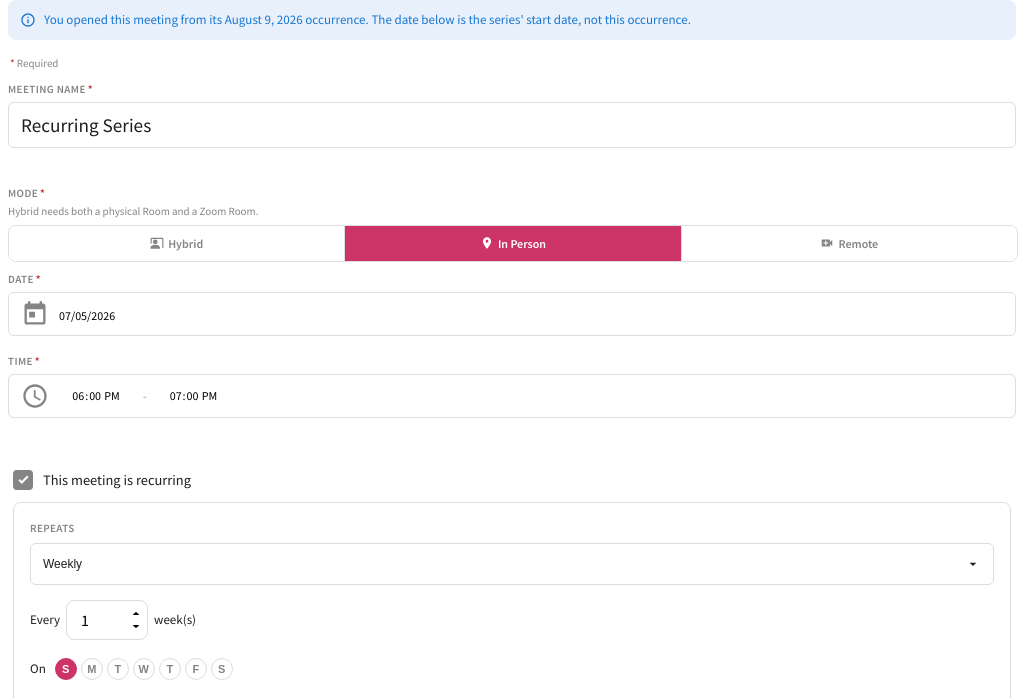
Test: EditMeetingSidebar recurring-scope re-anchoring › disables both scoped options and forces All events when Mode was changed
The width and height of the screenshot is (1024, 698).
What coordinates should you click on to do the following:
click the button "Remote"
I would click on:
 (849, 243)
Its box is [682,226,1017,261].
(page scrolled)
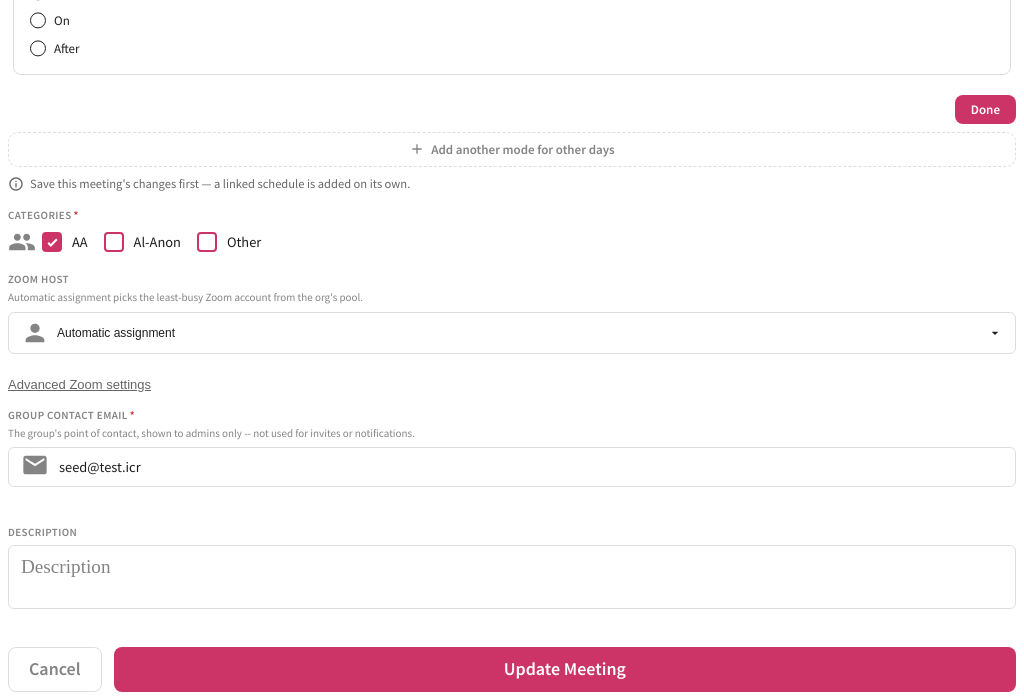
What coordinates should you click on to do the following:
click the button "Update Meeting"
I would click on:
 (565, 670)
Its box is [114,647,1016,692].
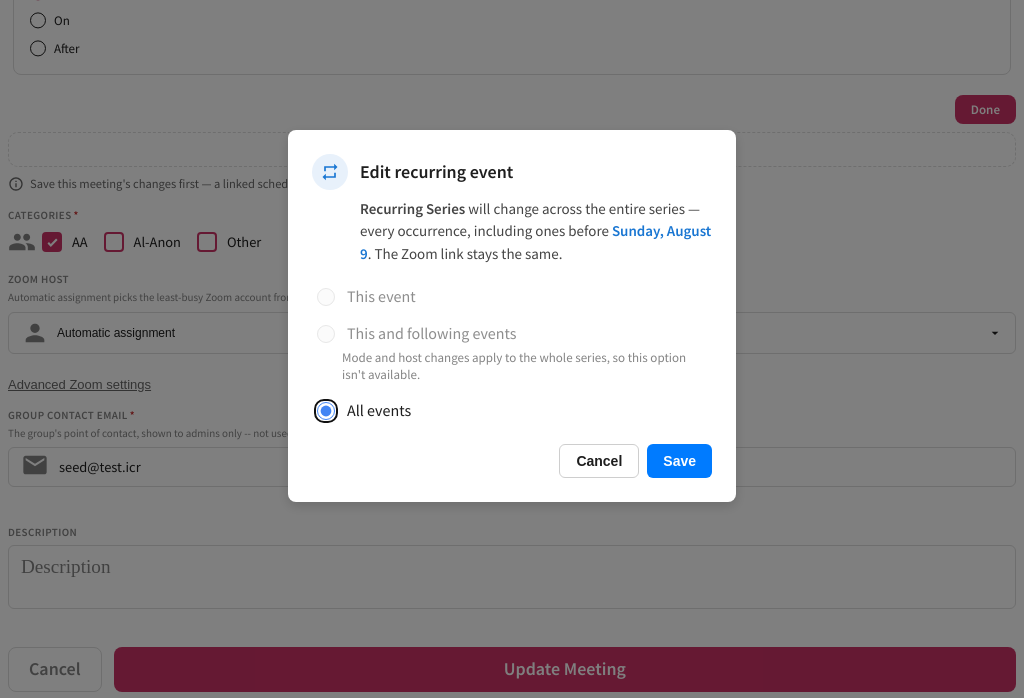
Result: the radio button labelled "All events" is checked at [317,402,335,420]
Result: the text "Mode and host changes apply to the whole series" is shown at [342,349,686,383]
